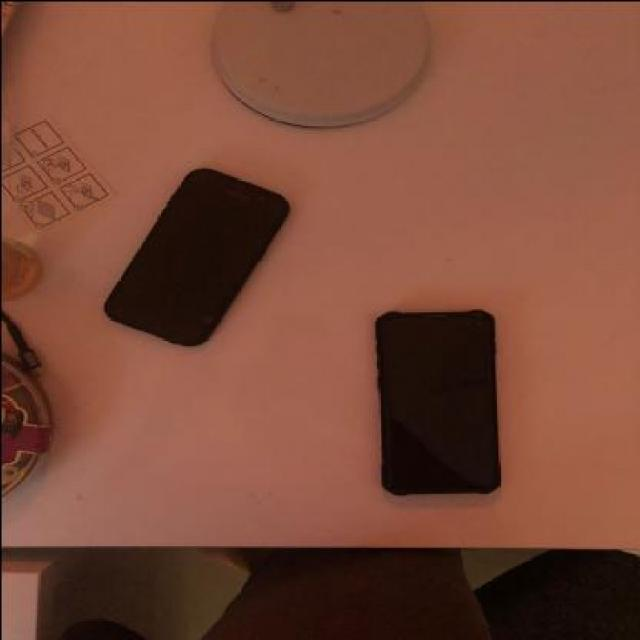phone: (98, 166, 292, 344), (377, 310, 501, 492)
